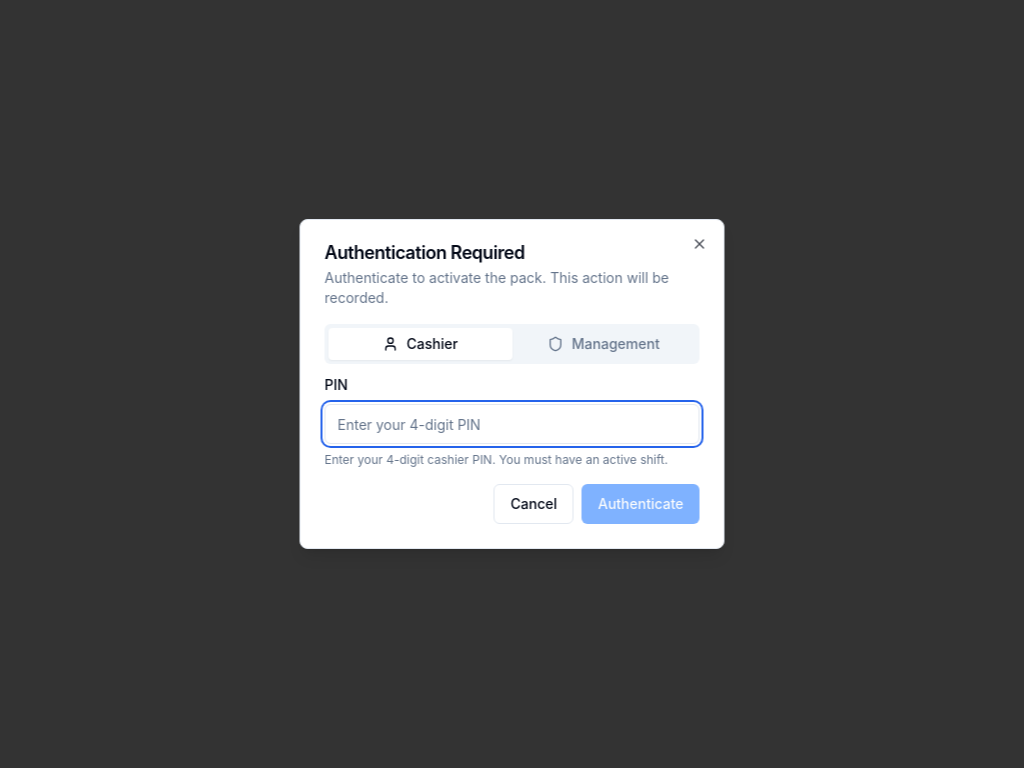
Scenario: LotteryAuthModal › Cashier Authentication Flow › LAM-010: should show error for no active shift
# Enter PIN
In the password field with test id "pin-input": [512, 424] box [324,404,700,444], type "1234"
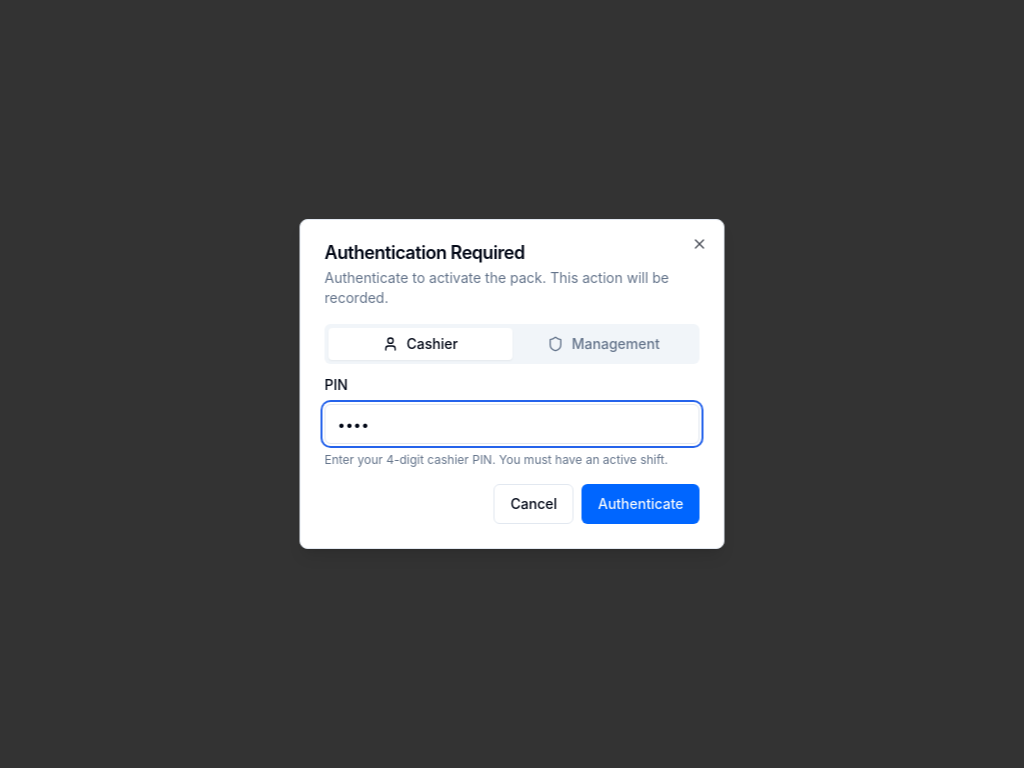
Click the button with test id "authenticate-button": [641, 504] box [582,484,700,524]
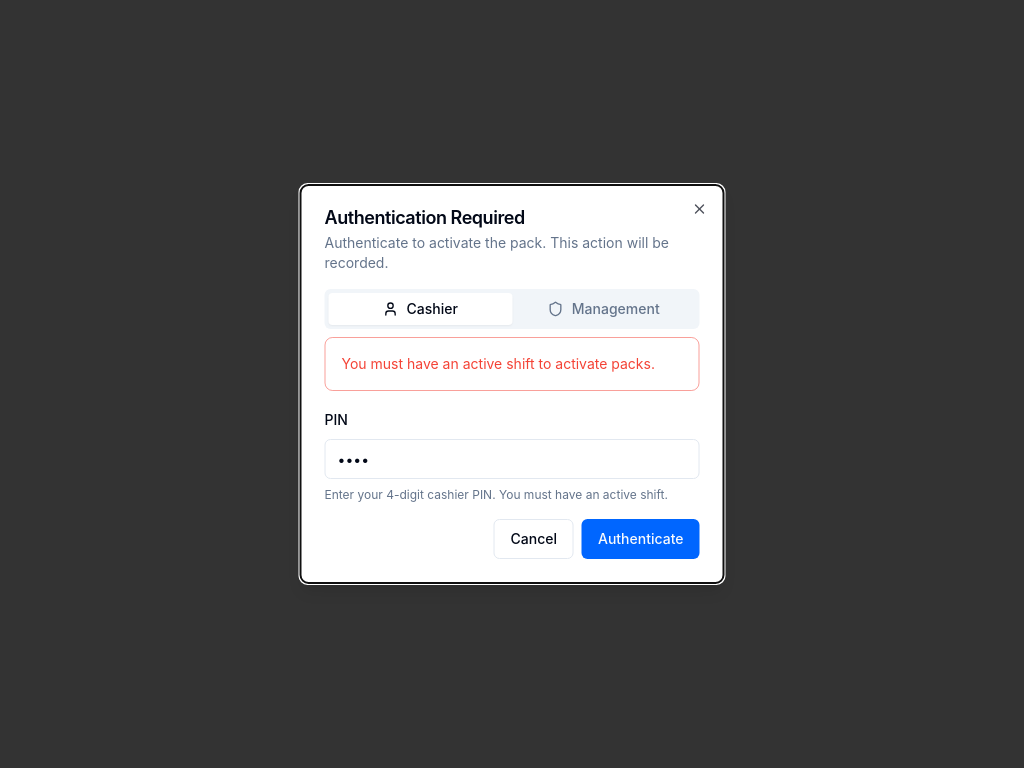
Expected: the text with test id "cashier-error-message" reads "You must have an active shift to activate packs.", [342,355,655,372]
